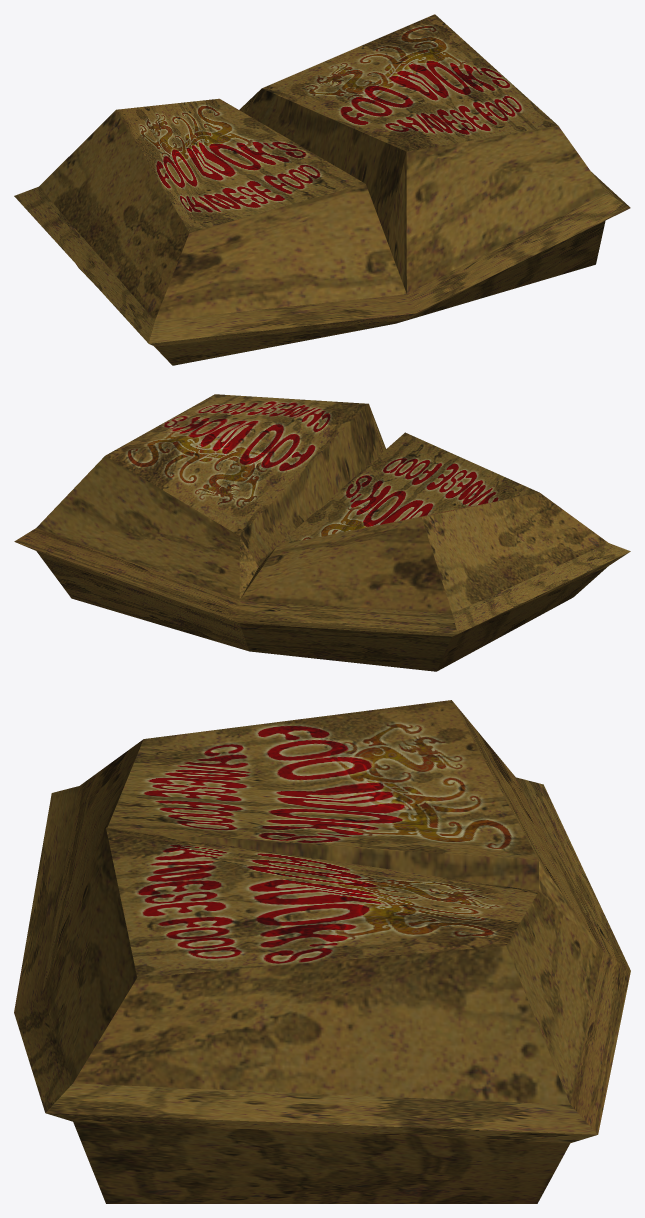
File: takeout_crushed.fbx
3 views of the same model, one above another, from view 1: azimuth 30°, elevation 25°; view 2: azimuth 150°, elevation 25°; view 3: azimuth 270°, elevation 25° (orthographic). The views are drawn at different scales.
Visible parts, largest first — view 1: takeout_box; view 2: takeout_box; view 3: takeout_box.
Boxes of the visible parts, x1,y1,x2,y2 form: takeout_box: (14,14,630,365); takeout_box: (14,394,630,671); takeout_box: (14,700,630,1203).
Bounding box in the file's own units: 0.4216 × 0.1259 × 0.2956.
